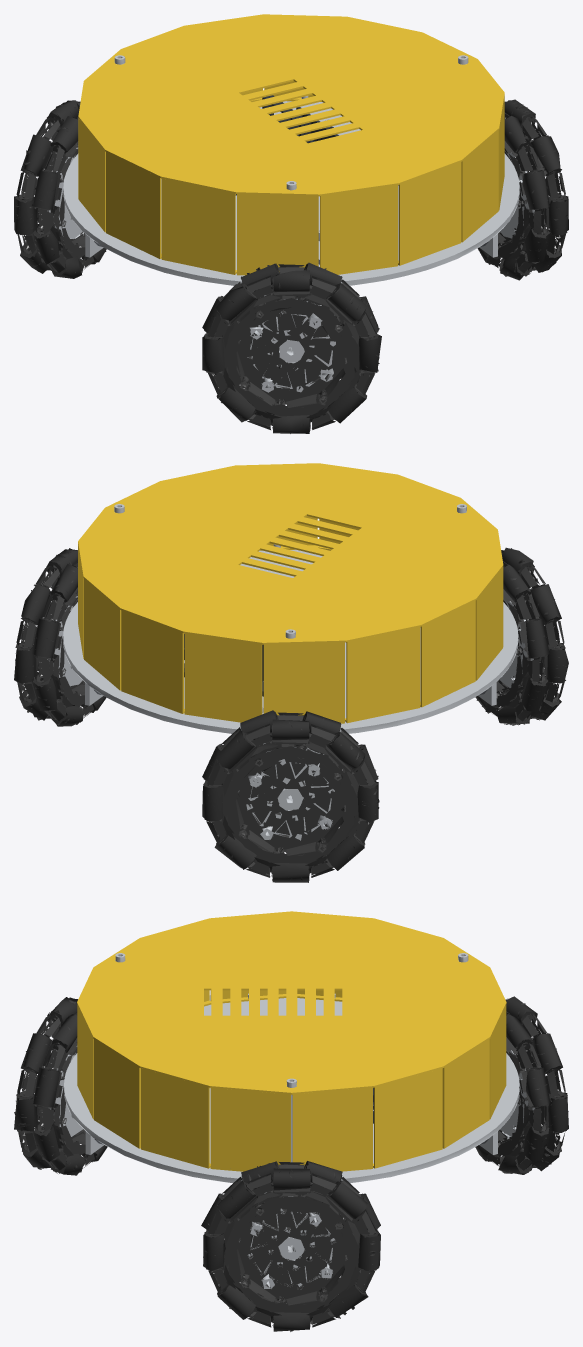
File: omni_yellow.glb
3 renders of one model, top to bottom at view 1: azimuth 30°, elevation 25°; view 2: azimuth 150°, elevation 25°; view 3: azimuth 270°, elevation 25°, orthographic.
Parts seen in each view (by area): view 1: base_link, rear_right_wheel, rear_left_wheel, front_wheel; view 2: base_link, rear_left_wheel, front_wheel, rear_right_wheel; view 3: base_link, front_wheel, rear_right_wheel, rear_left_wheel.
Boxes of the visible parts, left/top/right/bottom form: base_link: left=63, top=14, right=519, bottom=354; rear_right_wheel: left=202, top=262, right=381, bottom=433; rear_left_wheel: left=14, top=100, right=106, bottom=278; front_wheel: left=477, top=99, right=568, bottom=280; base_link: left=63, top=463, right=518, bottom=802; rear_left_wheel: left=202, top=710, right=379, bottom=882; front_wheel: left=14, top=548, right=106, bottom=726; rear_right_wheel: left=475, top=547, right=568, bottom=725; base_link: left=64, top=911, right=519, bottom=1251; front_wheel: left=201, top=1161, right=380, bottom=1331; rear_right_wheel: left=14, top=997, right=107, bottom=1175; rear_left_wheel: left=475, top=996, right=568, bottom=1174.
Size of the model in its own units: 0.2691 by 0.1322 by 0.2972.
